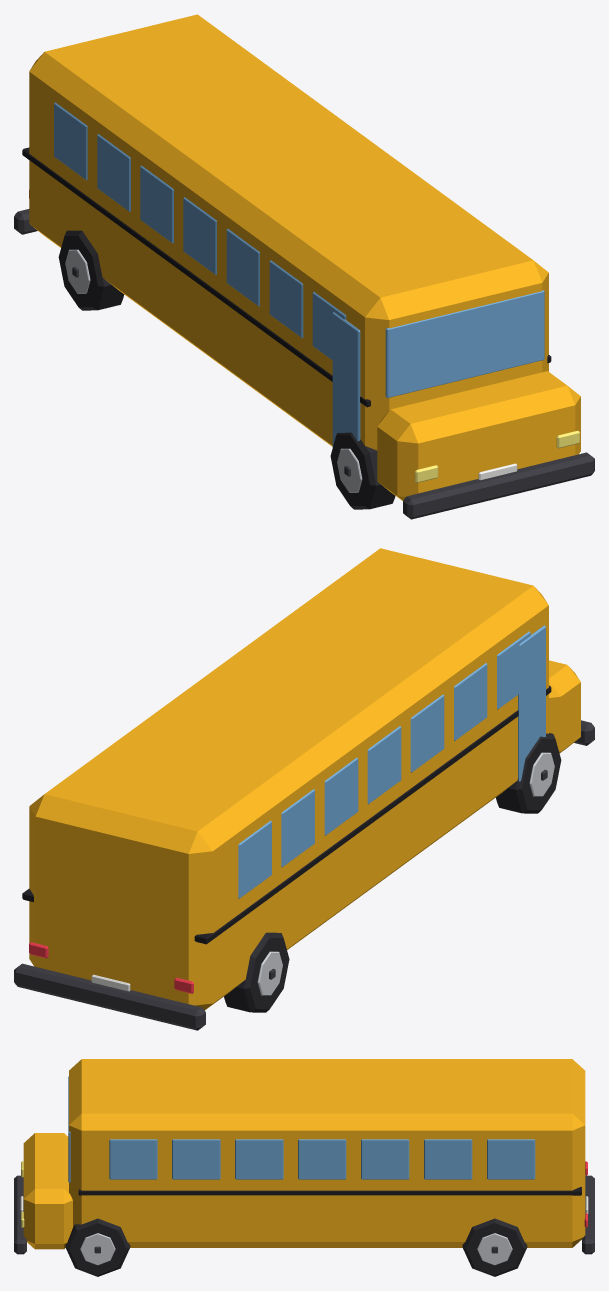
The model's file is SchoolBus.fbx.
3 renders of one model, top to bottom at view 1: azimuth 30°, elevation 25°; view 2: azimuth 150°, elevation 25°; view 3: azimuth 270°, elevation 25°, orthographic. The views are drawn at different scales.
Visible parts, largest first — view 1: SchoolBus, SchoolBus_WheelFR, SchoolBus_WheelBR; view 2: SchoolBus, SchoolBus_WheelBR, SchoolBus_WheelFR; view 3: SchoolBus, SchoolBus_WheelFL, SchoolBus_WheelBL.
Boxes of the visible parts, x1,y1,x2,y2 form: SchoolBus: (14,14,594,519); SchoolBus_WheelFR: (330,432,395,509); SchoolBus_WheelBR: (58,230,124,310); SchoolBus: (14,548,594,1030); SchoolBus_WheelBR: (224,932,289,1012); SchoolBus_WheelFR: (496,733,561,813); SchoolBus: (14,1059,594,1254); SchoolBus_WheelFL: (65,1218,130,1276); SchoolBus_WheelBL: (462,1218,527,1276).
Size of the model in its own units: 5.22 by 5.4 by 18.
Materials: 1 (1 with a texture image).
